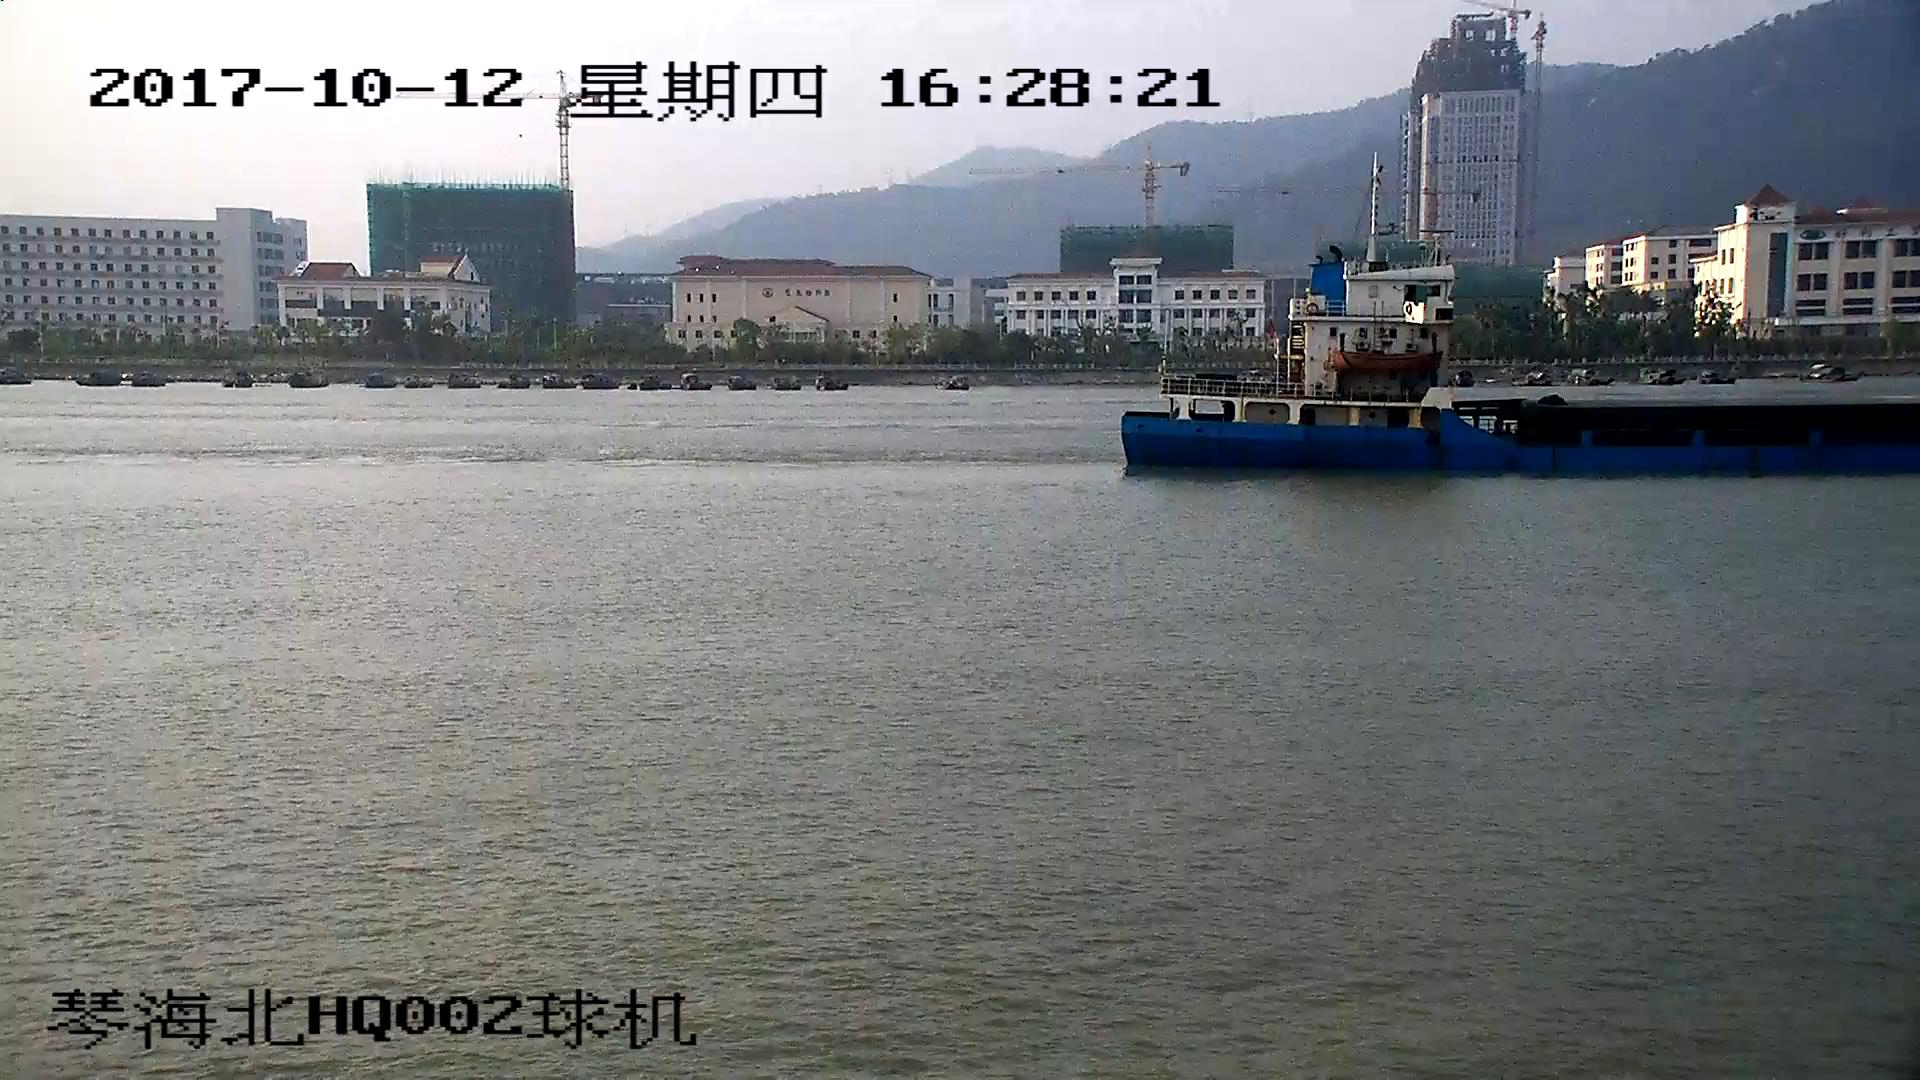general cargo ship: (1117, 169, 1920, 481)
